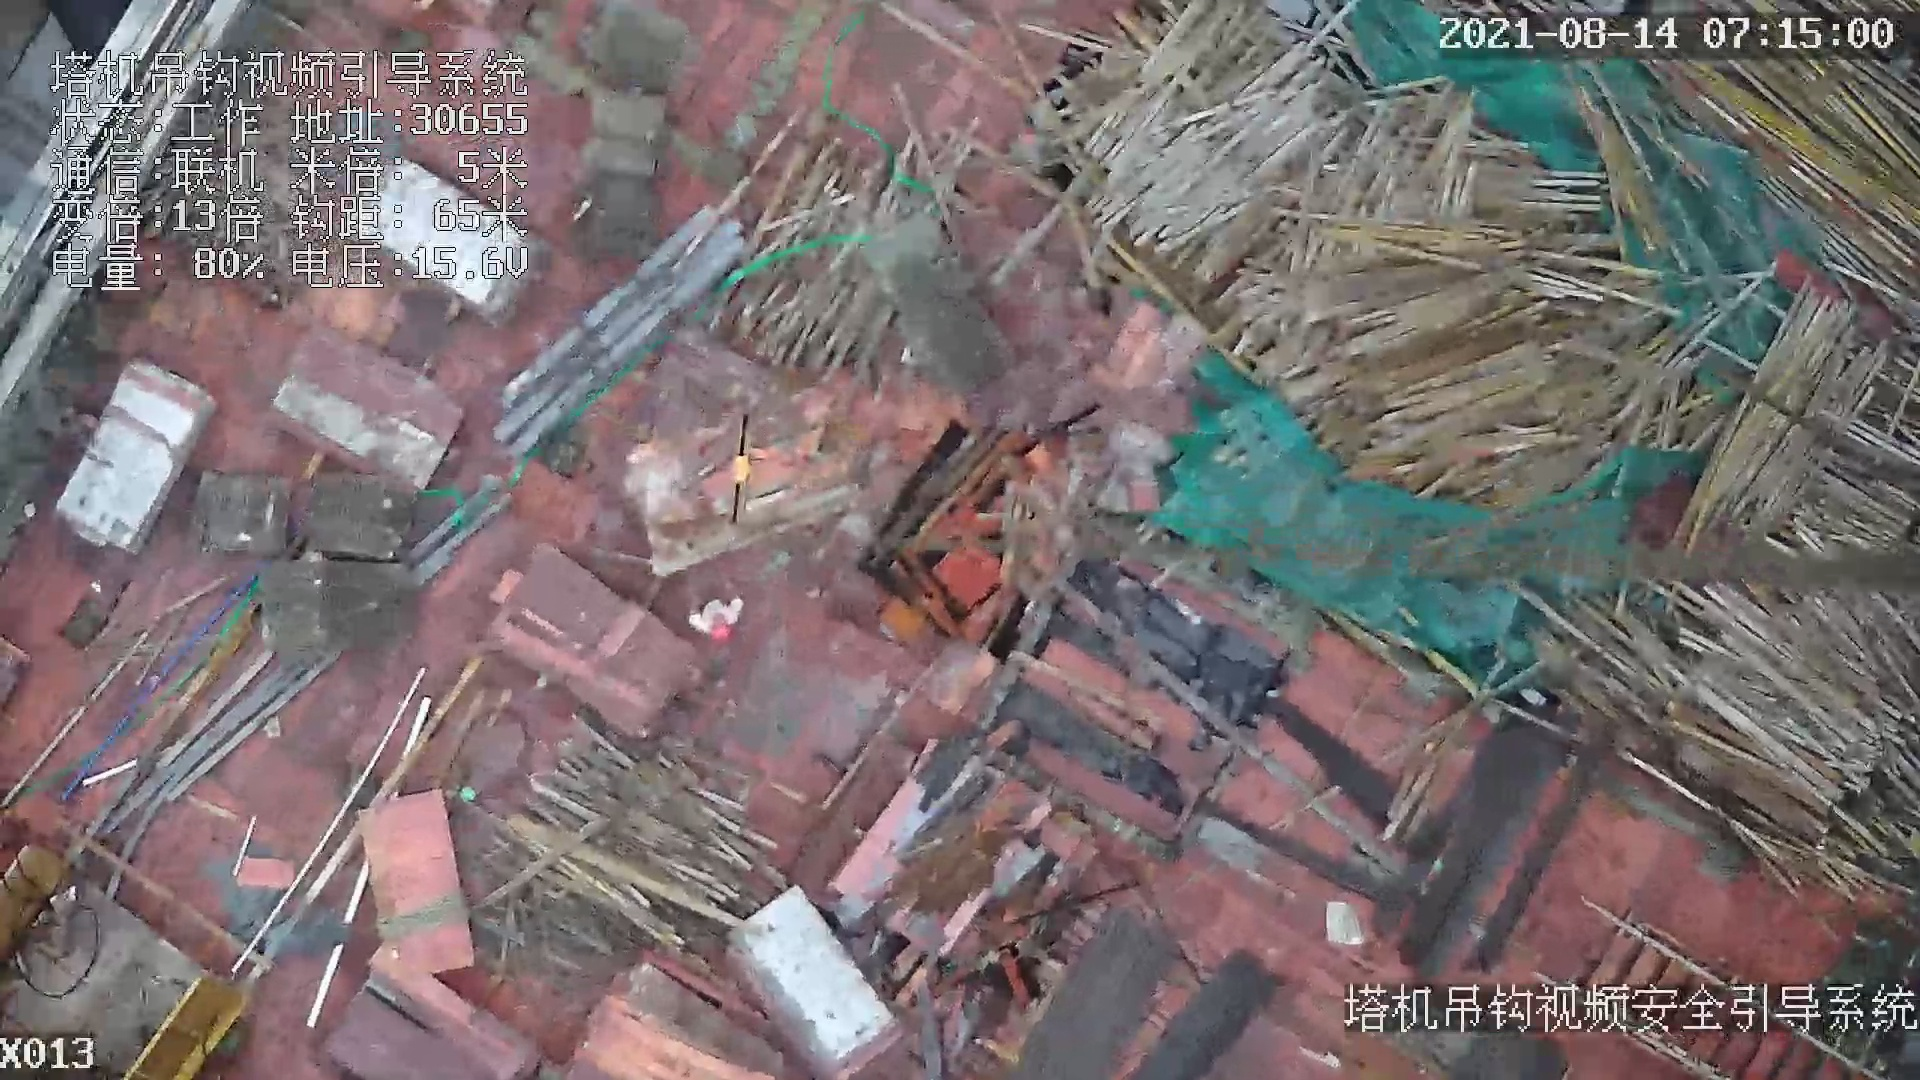helmet: (710, 622, 736, 639)
hook: (717, 405, 759, 527)
person: (674, 591, 751, 641)
